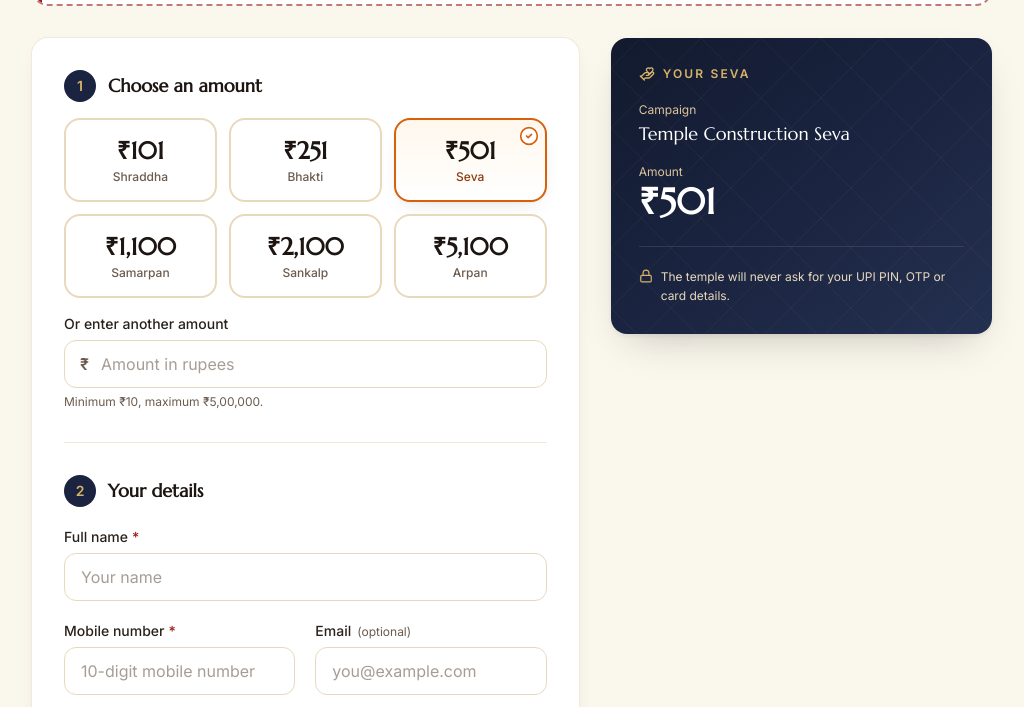
Test: Donate landing page › validates the custom amount range
(page scrolled)
Type "5" into the field labelled "Or enter another amount" at (305, 364), box [64, 340, 547, 388]
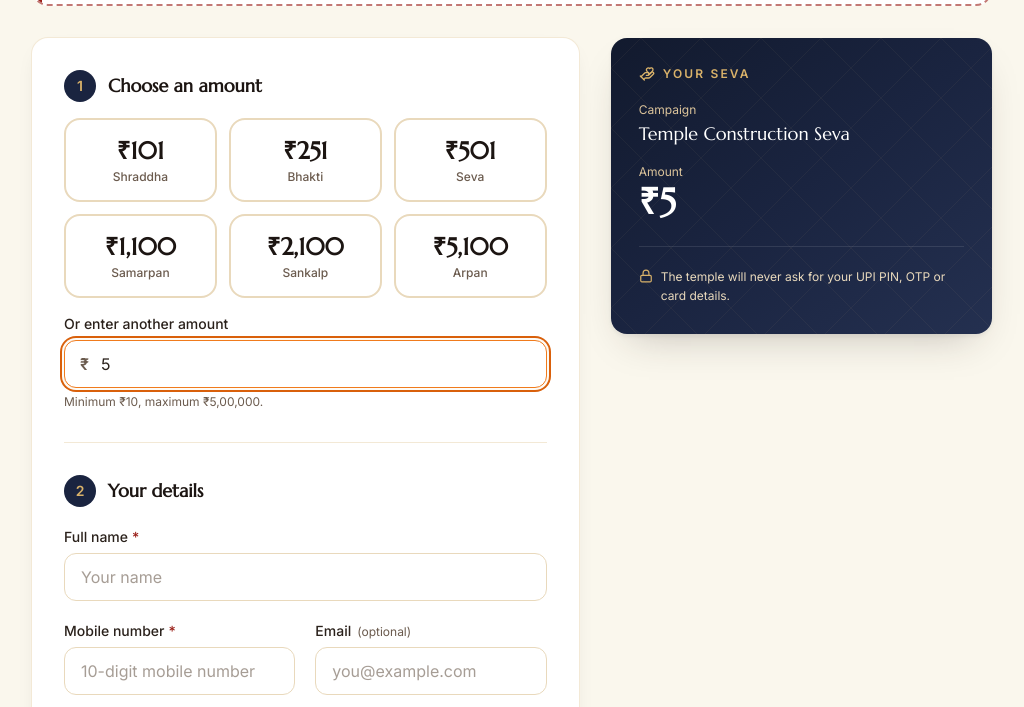
Type "Ram Kumar" into the field labelled "Full name*" at (305, 577), box [64, 553, 547, 601]
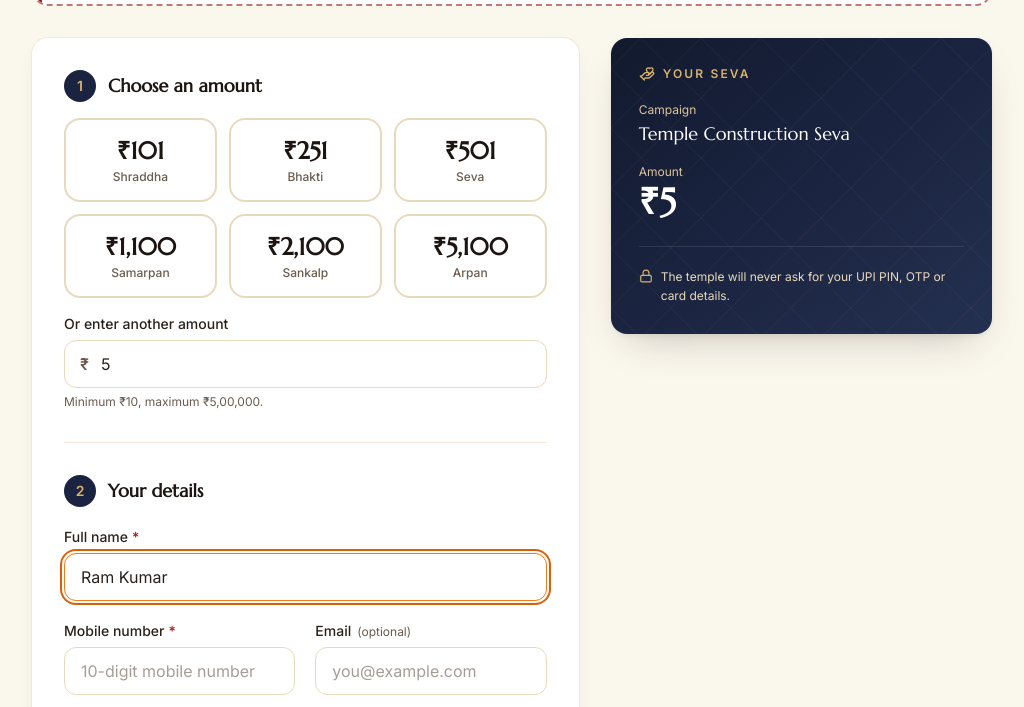
Type "9876543210" into the field labelled "Mobile number*" at (180, 671), box [64, 647, 295, 695]
(page scrolled)
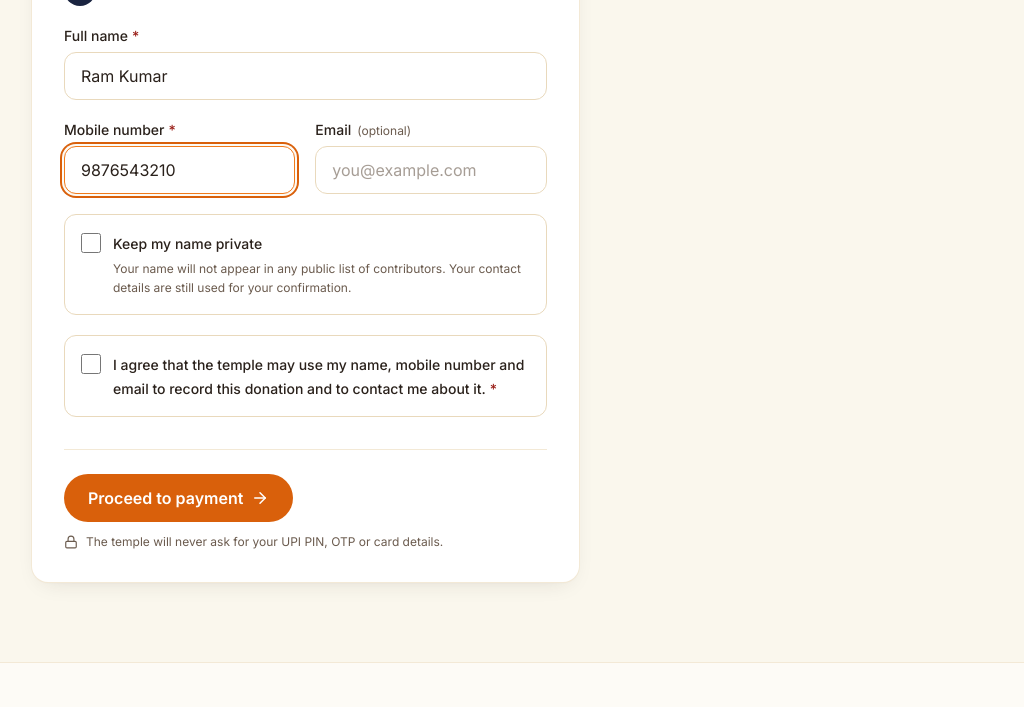
Click the checkbox labelled "I agree that the temple" at (91, 364), box [81, 354, 101, 374]
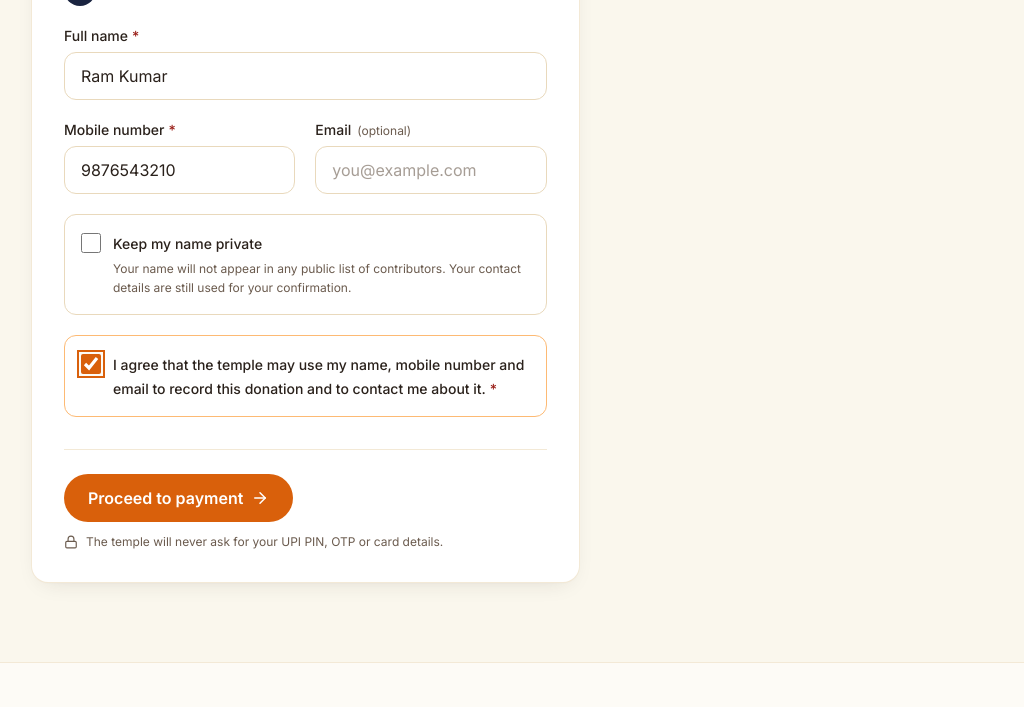
Click the button "Proceed to payment" at (179, 498), box [64, 474, 293, 522]
(page scrolled)
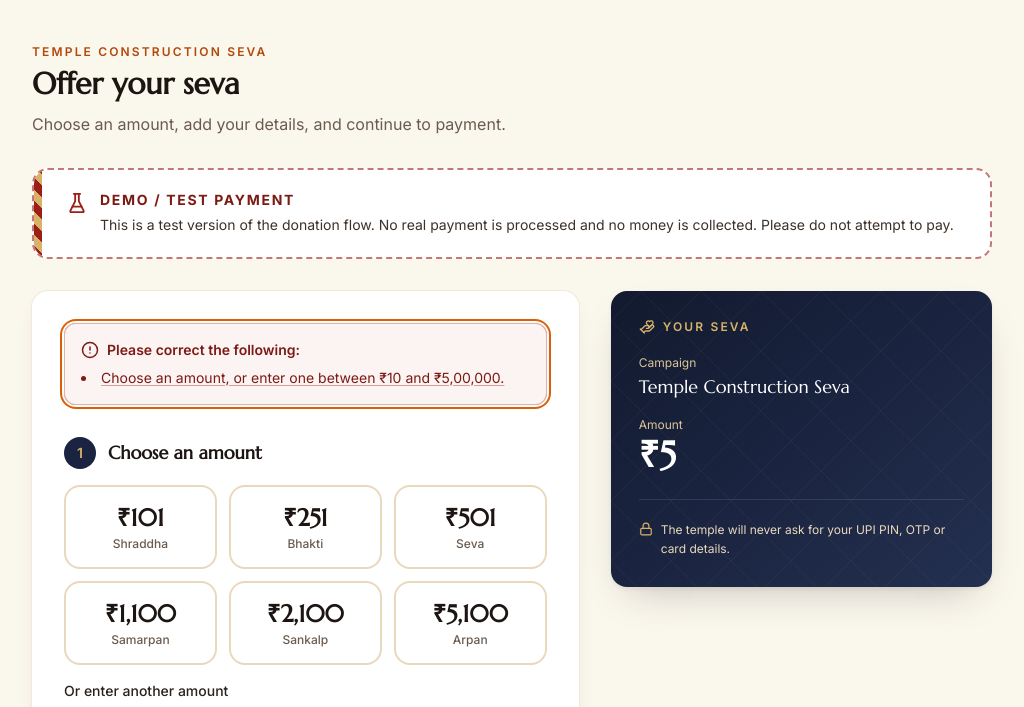
Expected: the link "Choose an amount, or enter one between ₹10 and ₹5,00,000." is shown, [101, 369, 504, 386]
